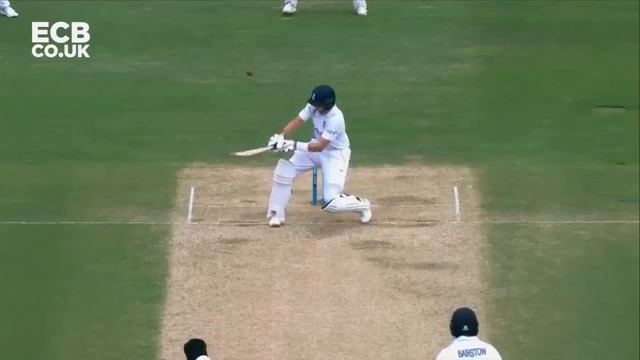batsman: (228, 84, 374, 226)
